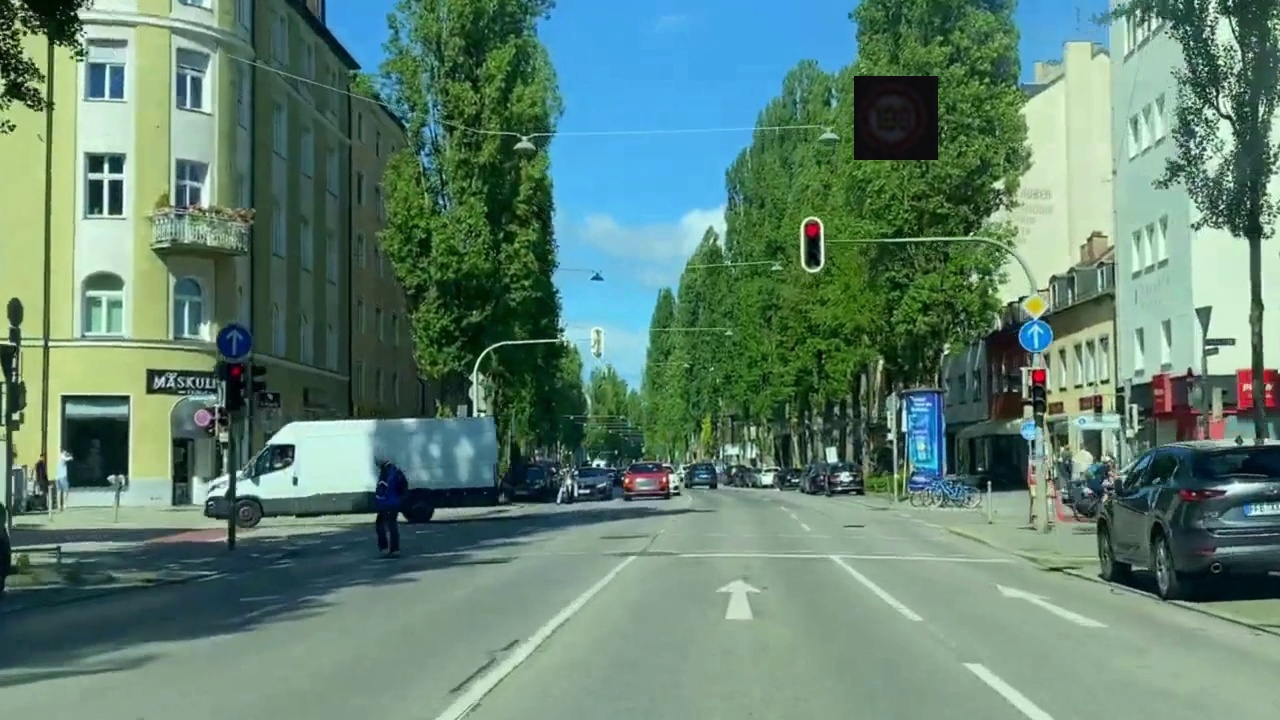Speed 100: (854, 76, 938, 160)
